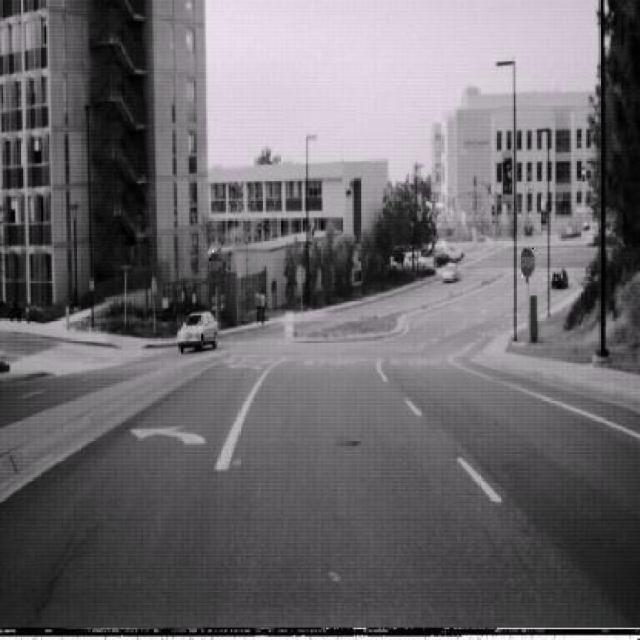stop: (518, 245, 535, 278), (209, 251, 225, 282)
